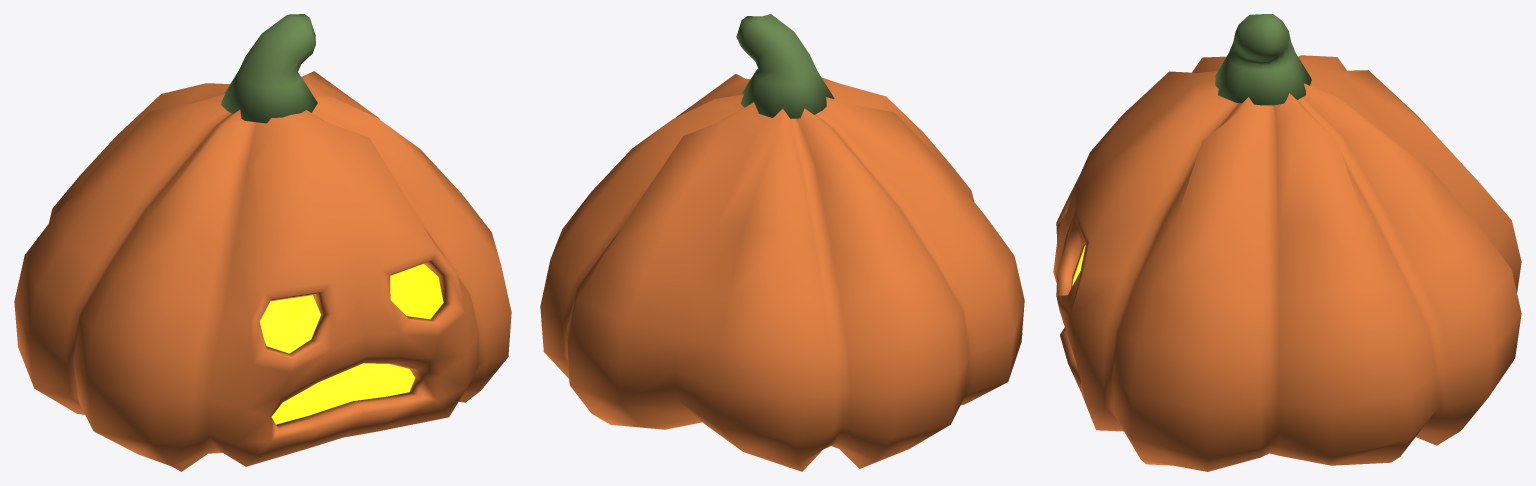
The model's file is pumpkin_1.fbx.
The picture shows the model from 3 angles, left to right: view 1: azimuth 30°, elevation 25°; view 2: azimuth 150°, elevation 25°; view 3: azimuth 270°, elevation 25°; orthographic projection. The views are drawn at different scales.
Visible parts, largest first — view 1: pumpkin_1; view 2: pumpkin_1; view 3: pumpkin_1.
Part boxes in pixels (x1,y1,x2,y2): pumpkin_1: (14,14,511,471); pumpkin_1: (540,14,1024,471); pumpkin_1: (1053,14,1521,471).
Size of the model in its own units: 131 by 119 by 122.
